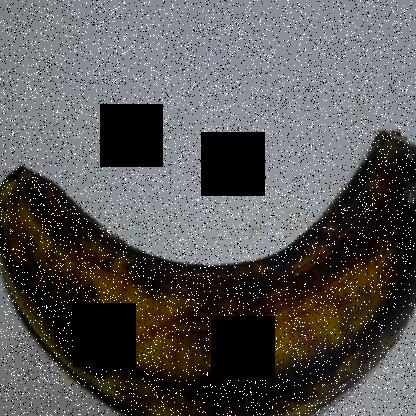overripe: (6, 128, 415, 415)
rotten: (351, 83, 415, 275)
